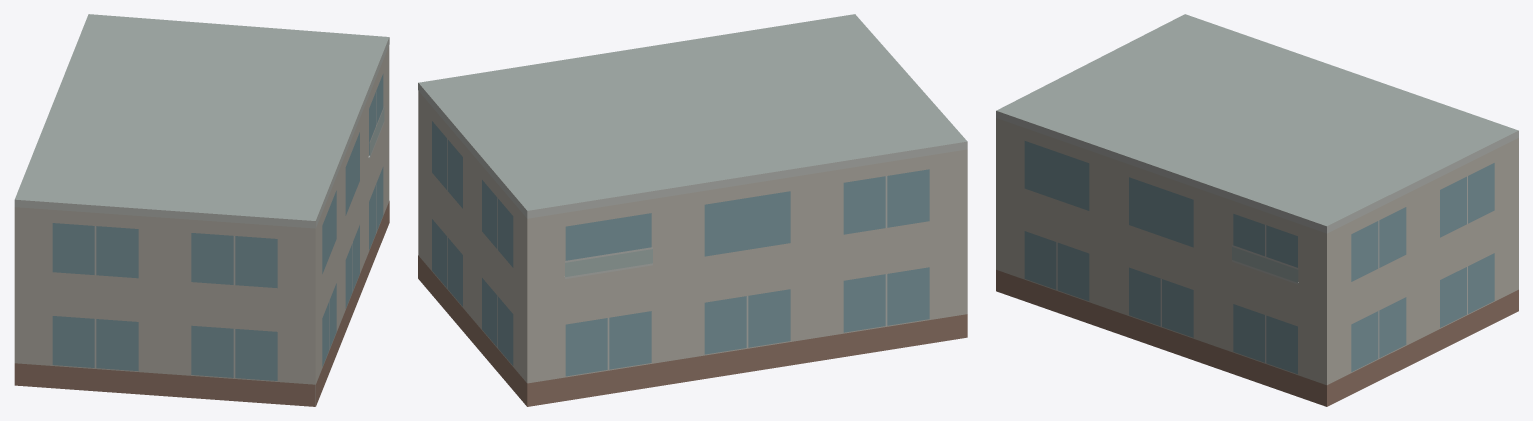
Rendered from survey-upis-32941957.glb.
3 views of the same model, side by side, from view 1: azimuth 30°, elevation 25°; view 2: azimuth 150°, elevation 25°; view 3: azimuth 270°, elevation 25° (orthographic). The views are drawn at different scales.
Visible parts, largest first — view 1: survey-upis-32941957.tmp; view 2: survey-upis-32941957.tmp; view 3: survey-upis-32941957.tmp.
Boxes of the visible parts, <box> form: survey-upis-32941957.tmp: <box>14,14,389,406</box>; survey-upis-32941957.tmp: <box>418,14,967,406</box>; survey-upis-32941957.tmp: <box>996,14,1518,406</box>.
Bounding box in the file's own units: 15.4 × 6.1 × 16.02.
